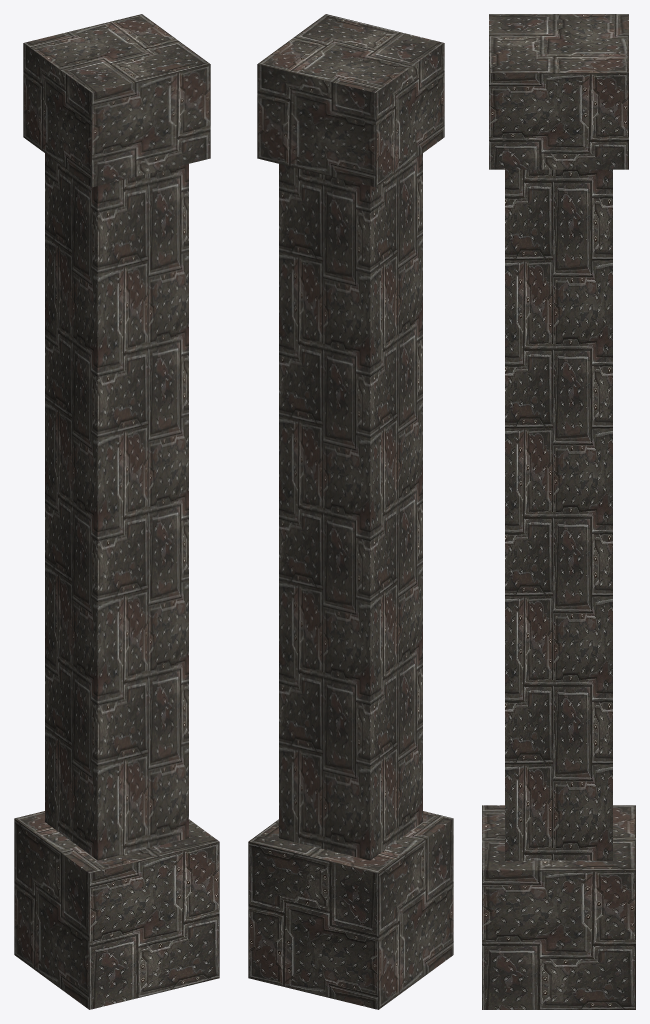
File: pillar_metal1.glb
The picture shows the model from 3 angles, left to right: view 1: azimuth 30°, elevation 25°; view 2: azimuth 150°, elevation 25°; view 3: azimuth 270°, elevation 25°; orthographic projection. The views are drawn at different scales.
Parts seen in each view (by area): view 1: Cube; view 2: Cube; view 3: Cube.
Part boxes in pixels (bbox=[...]): Cube: bbox=[14, 14, 219, 1009]; Cube: bbox=[248, 14, 453, 1009]; Cube: bbox=[482, 14, 635, 1009].
Size of what is drawn, in the model's own units: 0.8 by 5.35 by 0.8.
Materials: 1 (1 with a texture image).
